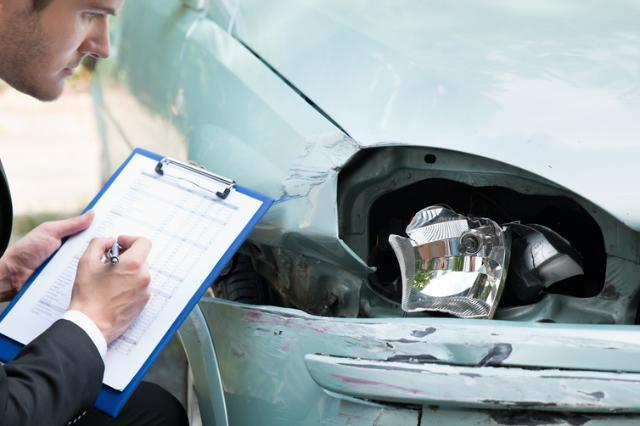Bumper: (182, 293, 640, 426)
Fender: (244, 114, 372, 282)
Light: (340, 156, 632, 332)
